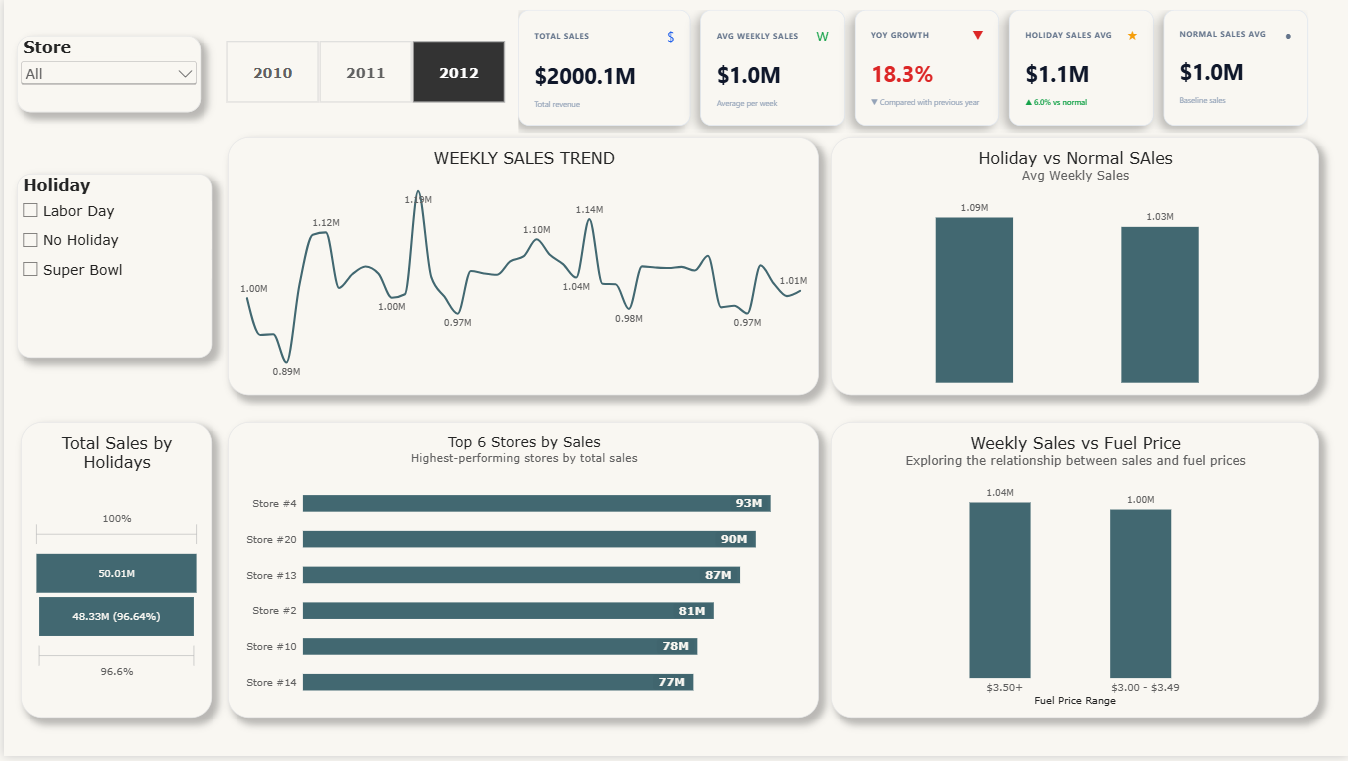

The dashboard page shown, as its layout file describes it:
{"tool":"powerbi","page":{"name":"Page 1","canvas":[1920,1080],"ordinal":0},"visuals":[{"type":"htmlContent443BE3AD55E043BF878BED274D3A6855","fields":{"content":["Measure(s).KPI Cards HTML"]},"box":[718.6,0,1160,205.7],"z":0},{"type":"lineChart","title":"WEEKLY SALES TREND","fields":{"Category":["Calendar.Date"],"Y":["Measure(s).Avg Weekly Sales"]},"box":[320,195.7,844.3,368.6],"z":1000},{"type":"clusteredColumnChart","title":"Holiday vs Normal SAles","fields":{"Category":["Sales Type.Type"],"Y":["Measure(s).Sales Type Value"]},"box":[1181.4,195.7,697,369],"z":2000},{"type":"clusteredBarChart","title":"Top 6 Stores by Sales","fields":{"Category":["Walmart_Sales.Store"],"Y":["Sum(Walmart_Sales.Weekly_Sales)"]},"box":[320,602.9,844.3,422.9],"z":3000},{"type":"columnChart","title":"Weekly Sales vs Fuel Price","fields":{"Category":["Walmart_Sales.Store","Walmart_Sales.Fuel Price Range"],"Y":["Avg(Walmart_Sales.Weekly_Sales)"]},"box":[1181.4,602.9,697.1,422.9],"z":4000},{"type":"slicer","fields":{"Values":["Calendar.Year"]},"box":[281.4,62.9,437.1,91.4],"z":4001},{"type":"slicer","fields":{"Values":["Walmart_Sales.Store"]},"box":[18.6,51.4,262.9,108.6],"z":4002},{"type":"slicer","fields":{"Values":["Walmart_Sales.Holiday"]},"box":[18.6,248.6,278.6,262.9],"z":4003},{"type":"funnel","title":"Total Sales by Holidays","fields":{"Category":["Walmart_Sales.Holiday"],"Y":["Sum(Walmart_Sales.Weekly_Sales)"]},"box":[24.3,602.9,272.9,422.9],"z":4004}]}

Visuals, with their boxes in screenshot pixels (x1, y1, x2, y2), scaled from the page's 1920x1080 canvas onto the 1348x761 screenshot:
htmlContent443BE3AD55E043BF878BED274D3A6855 - Measure(s).KPI Cards HTML: box(505, 0, 1319, 145)
"WEEKLY SALES TREND" lineChart: box(225, 138, 817, 398)
"Holiday vs Normal SAles" clusteredColumnChart: box(829, 138, 1319, 398)
"Top 6 Stores by Sales" clusteredBarChart: box(225, 425, 817, 723)
"Weekly Sales vs Fuel Price" columnChart: box(829, 425, 1319, 723)
slicer - Calendar.Year: box(198, 44, 504, 109)
slicer - Walmart_Sales.Store: box(13, 36, 198, 113)
slicer - Walmart_Sales.Holiday: box(13, 175, 209, 360)
"Total Sales by Holidays" funnel: box(17, 425, 209, 723)
